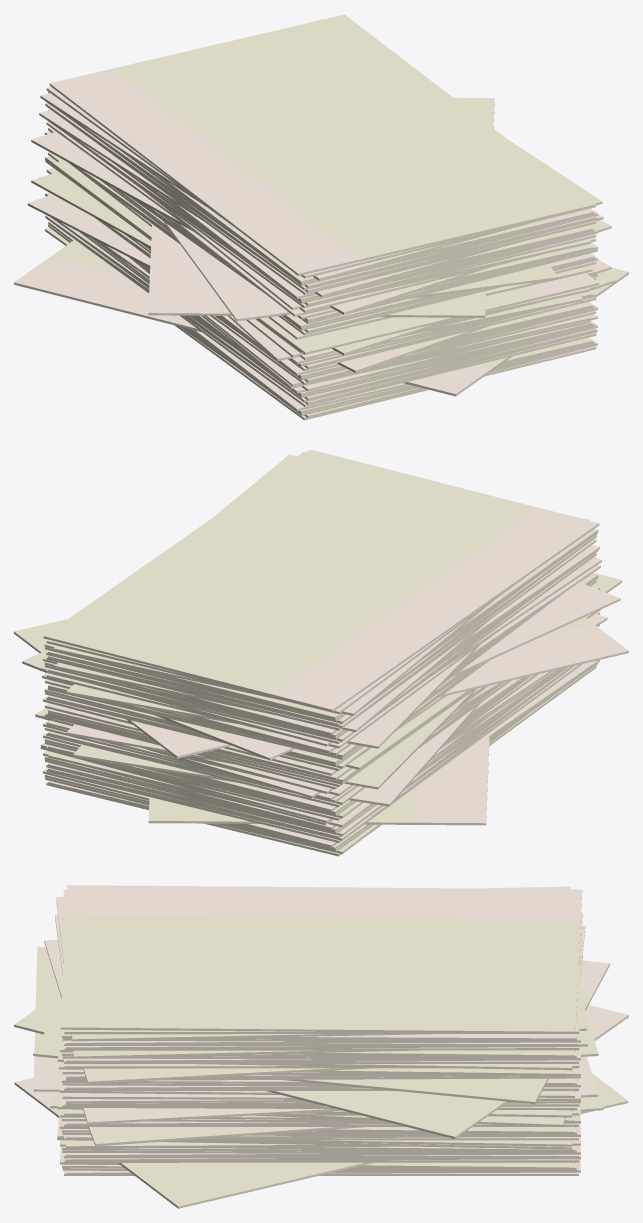
Rendered from Papeper-White.fbx.
3 renders of one model, top to bottom at view 1: azimuth 30°, elevation 25°; view 2: azimuth 150°, elevation 25°; view 3: azimuth 270°, elevation 25°, orthographic.
Parts seen in each view (by area): view 1: Plane.047; view 2: Plane.047; view 3: Plane.047.
Part boxes in pixels (x1,y1,x2,y2): Plane.047: (14, 14, 628, 420); Plane.047: (14, 449, 628, 856); Plane.047: (14, 885, 628, 1208).
Bounding box in the file's own units: 99.54 × 29.01 × 110.
